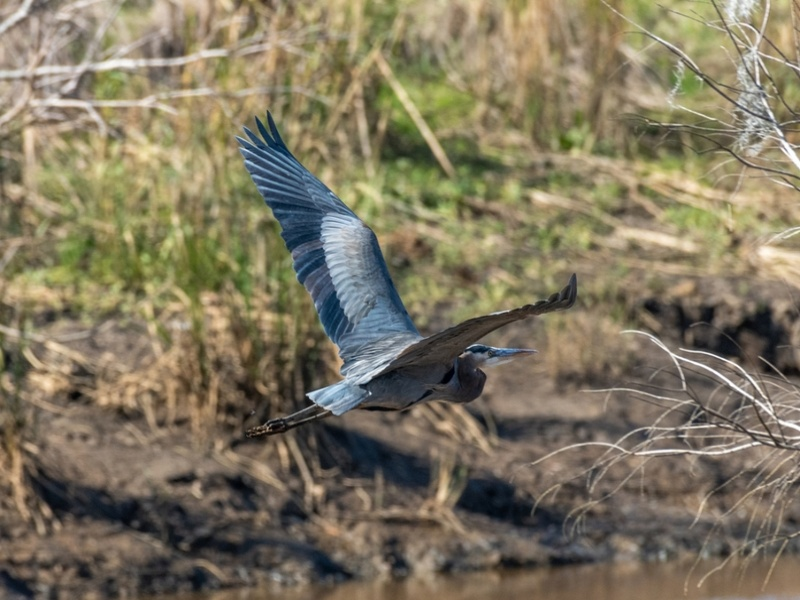heron: (235, 105, 581, 445)
